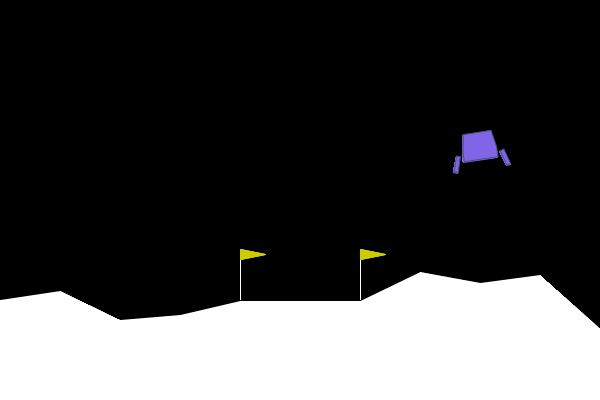lander: (447, 126, 512, 175)
